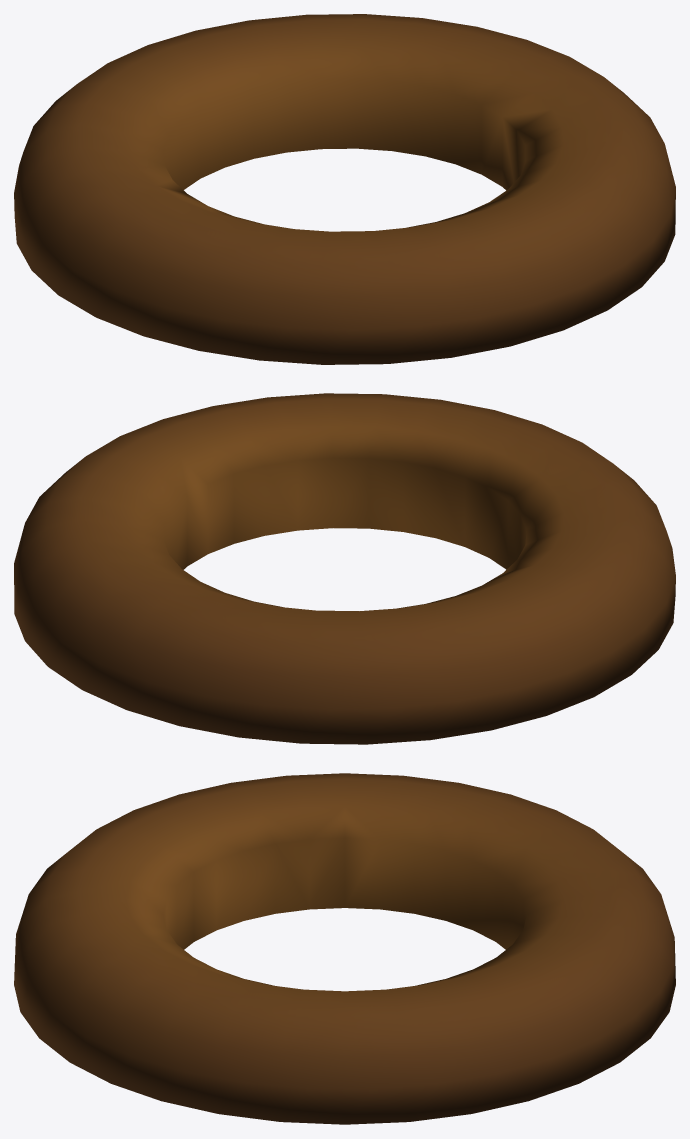
Rendered from Orange.fbx.
3 views of the same model, one above another, from view 1: azimuth 30°, elevation 25°; view 2: azimuth 150°, elevation 25°; view 3: azimuth 270°, elevation 25° (orthographic).
Visible parts, largest first — view 1: Cylinder.011; view 2: Cylinder.011; view 3: Cylinder.011.
Boxes of the visible parts, box(x1,y1,x2,y2) form: Cylinder.011: box(14, 14, 675, 364); Cylinder.011: box(14, 393, 675, 744); Cylinder.011: box(14, 773, 675, 1124).
Bounding box in the file's own units: 2.54 × 2.54 × 0.3934.
